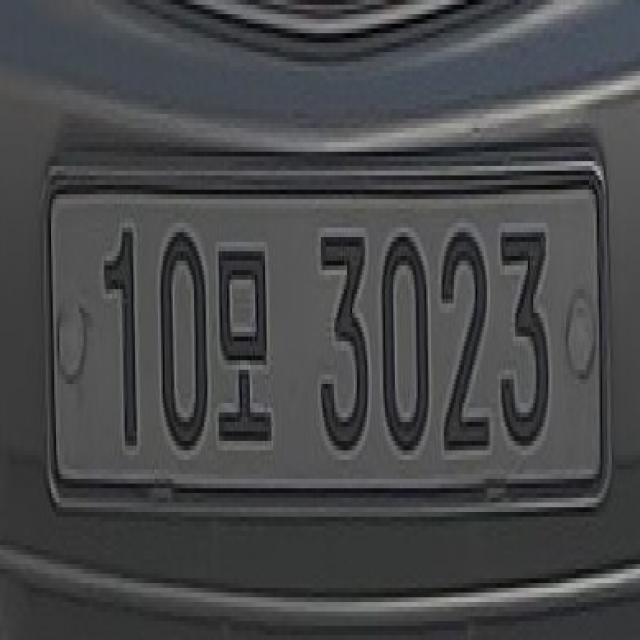0: (379, 226, 434, 462), (158, 222, 208, 465)
1: (104, 212, 142, 468)
2: (438, 220, 492, 468)
3: (496, 208, 564, 462), (314, 212, 374, 464)
license_plate: (28, 134, 620, 521)
mo: (215, 221, 278, 458)
